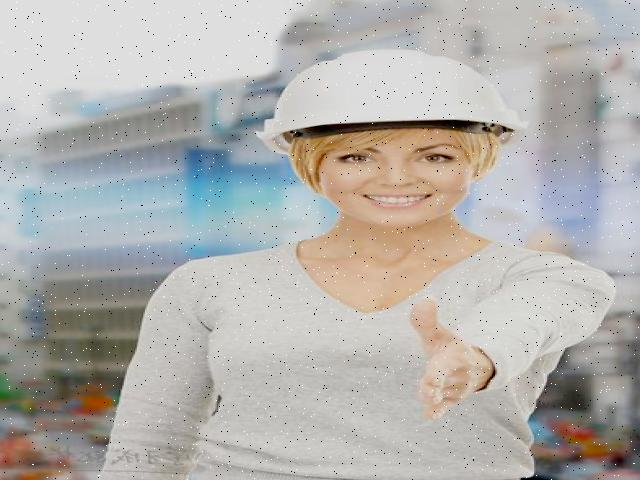Helmet: (252, 43, 536, 160)
